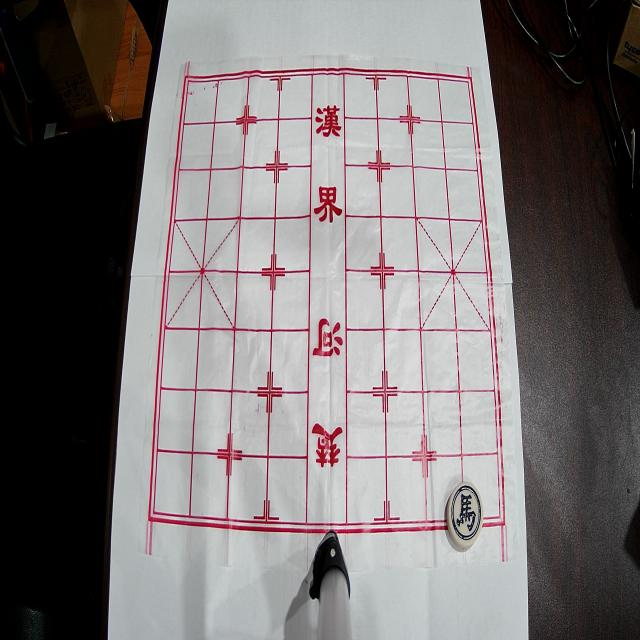black-horse: (447, 482, 483, 548)
